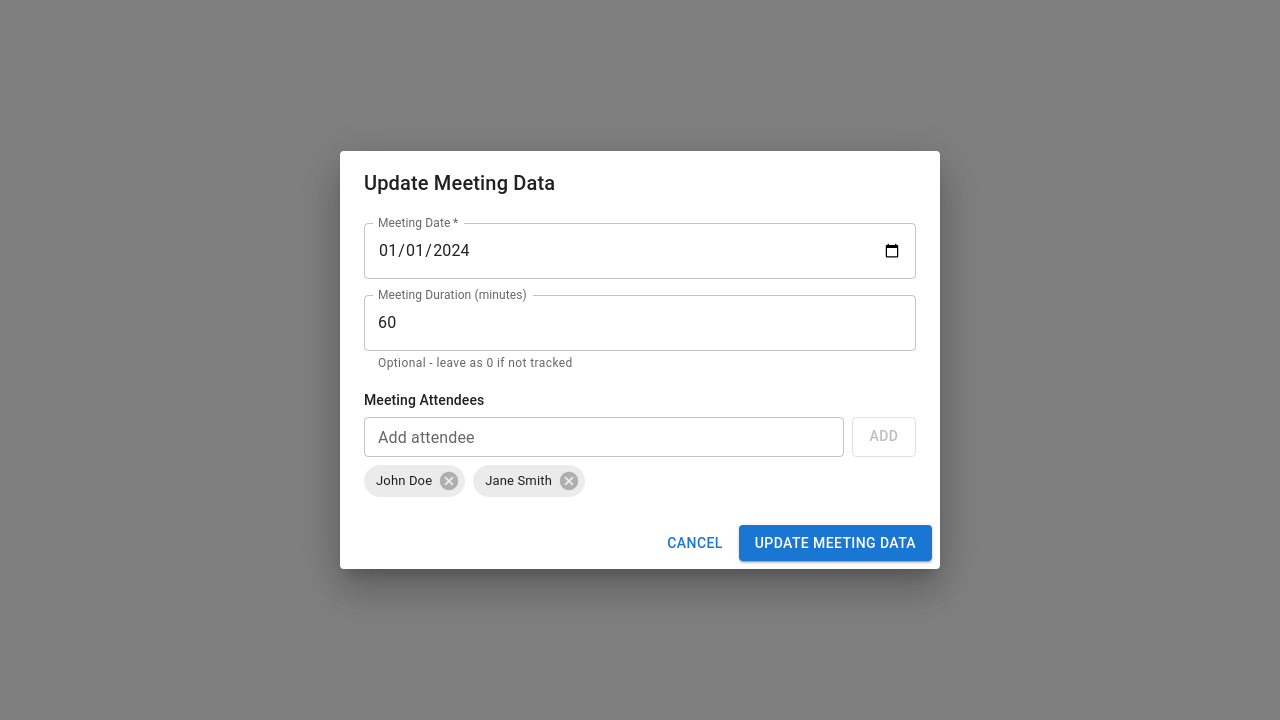
MeetingDataForm › adds and removes attendees
Add new attendee
Type "Bob Johnson" into the field labelled "Add attendee" at (604, 437), box [364,417,844,457]
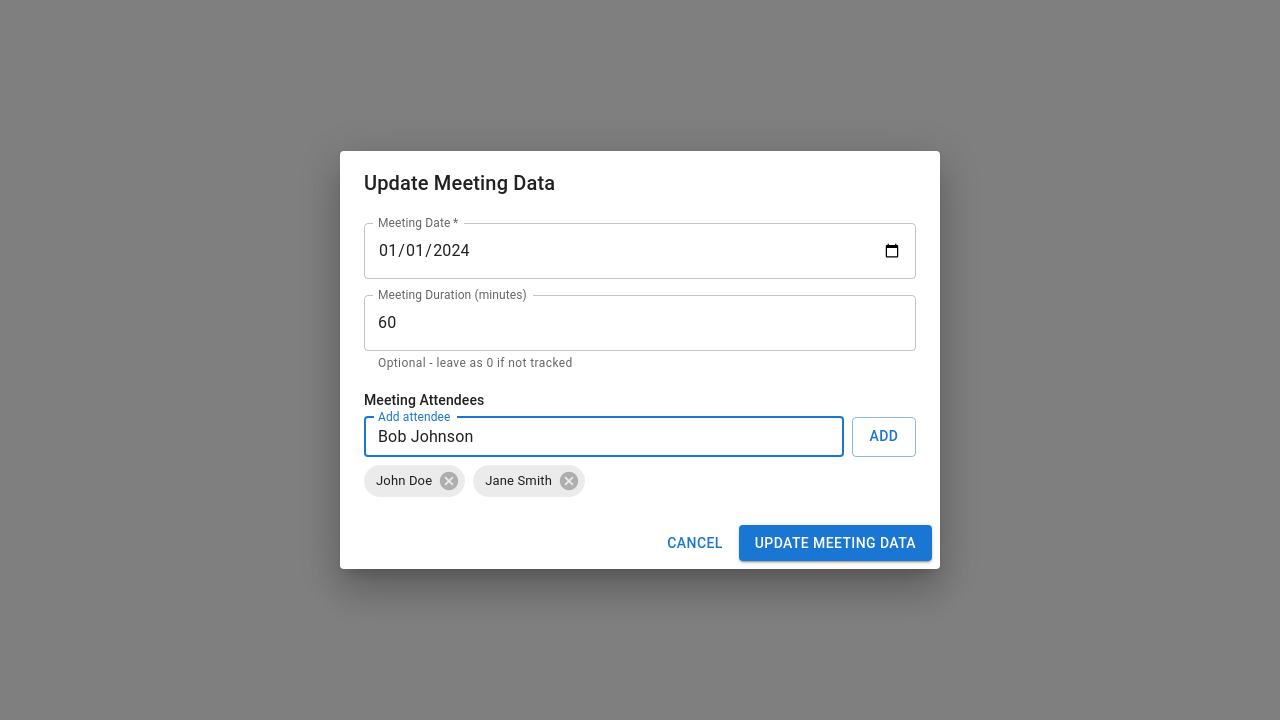
Click the button "Add" at (884, 437), box [852,417,916,457]
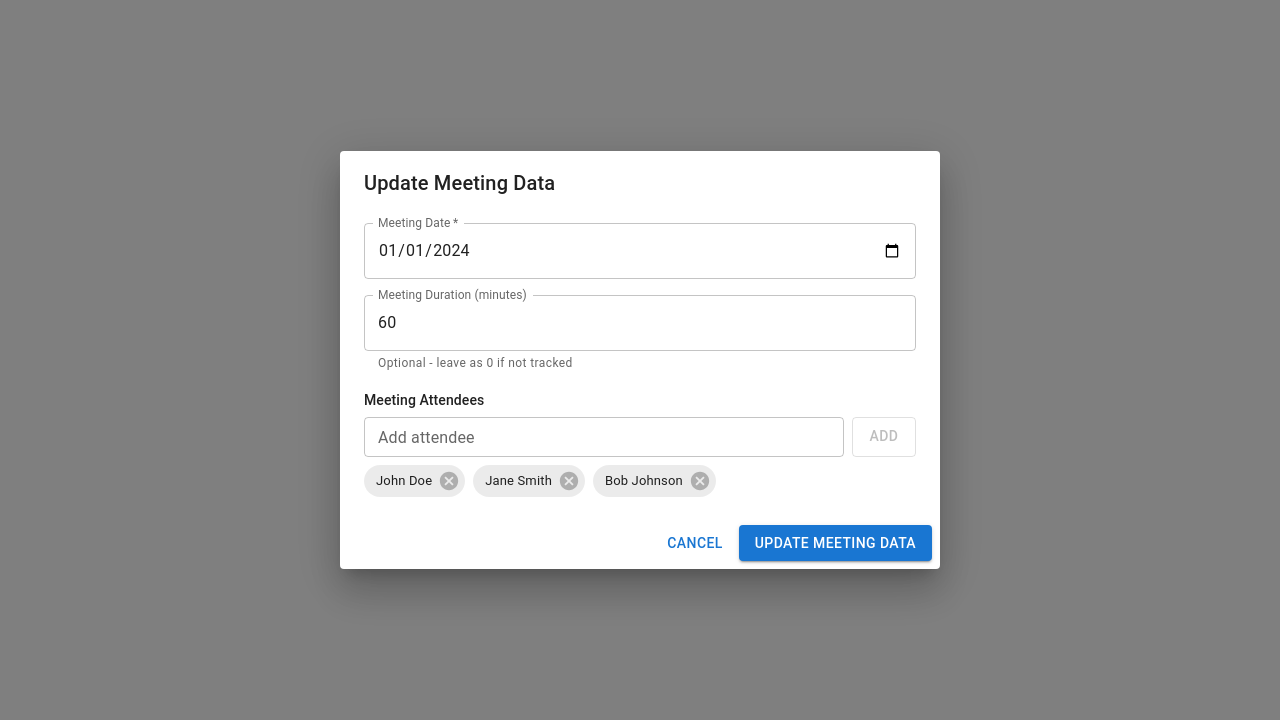
Check: the text "Bob Johnson" is shown, box [605,473,683,488]
Check: the field labelled "Add attendee" is empty, box [364,417,844,457]
Click the 1st icon with test id "CancelIcon" at (449, 481), box [438,470,460,492]
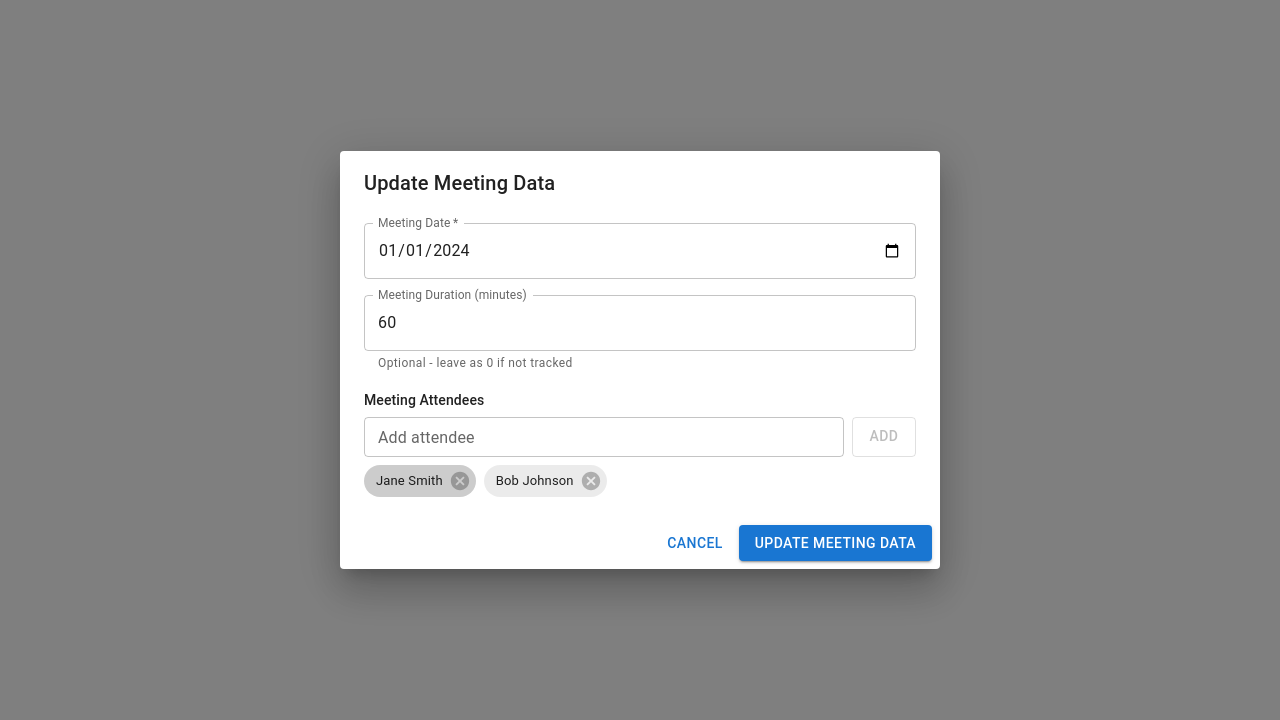
Check: the button "John Doe" is gone
